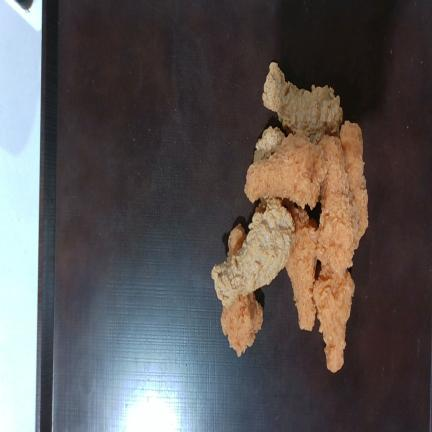chicken: (212, 198, 295, 306), (262, 62, 343, 143), (244, 134, 324, 208), (317, 138, 358, 275), (313, 266, 354, 372), (286, 204, 317, 331), (340, 121, 368, 249), (221, 293, 263, 356)
